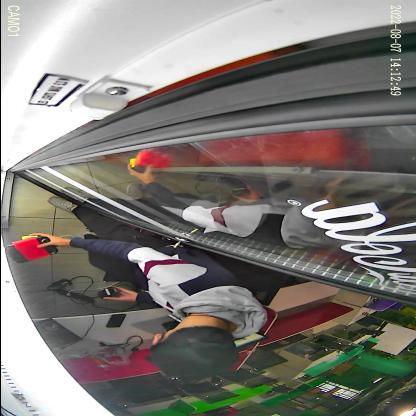red: (5, 236, 58, 264)
yellow: (17, 234, 41, 242)
